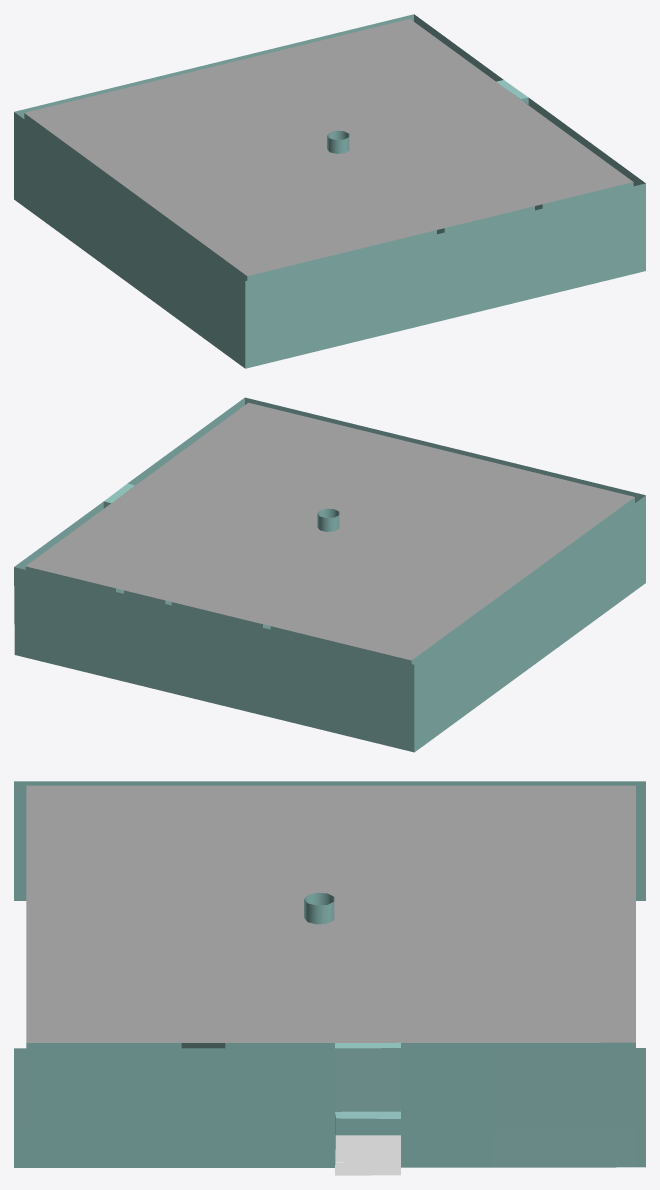
File: maze.fbx
3 views of the same model, one above another, from view 1: azimuth 30°, elevation 25°; view 2: azimuth 150°, elevation 25°; view 3: azimuth 270°, elevation 25° (orthographic). The views are drawn at different scales.
Visible parts, largest first — view 1: polySurface16; view 2: polySurface16; view 3: polySurface16.
Boxes of the visible parts, left/top/right/bottom form: polySurface16: left=14, top=14, right=645, bottom=368; polySurface16: left=14, top=397, right=645, bottom=752; polySurface16: left=14, top=781, right=645, bottom=1175.
Size of the model in its own units: 27.11 by 6.39 by 26.34.
